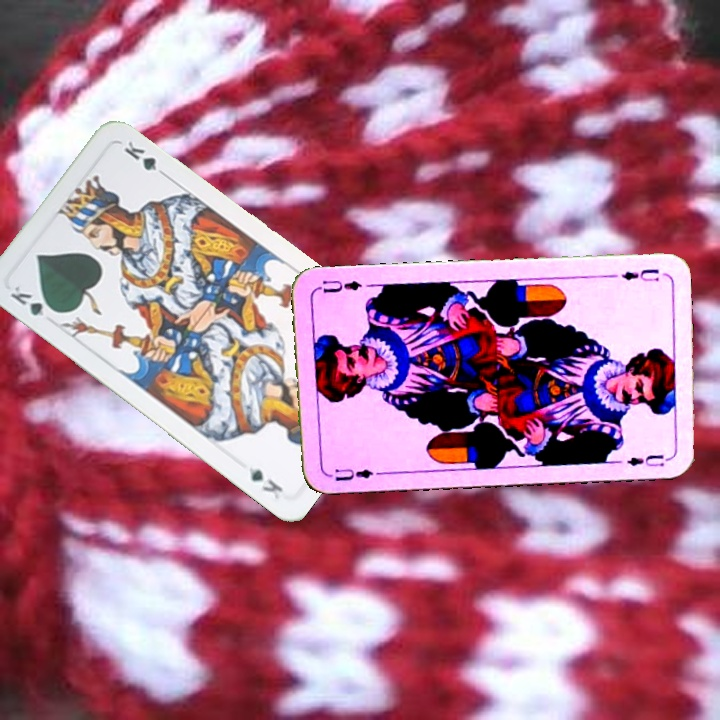EU: (324, 464, 376, 484), (617, 264, 662, 285)
GK: (4, 282, 61, 319)
